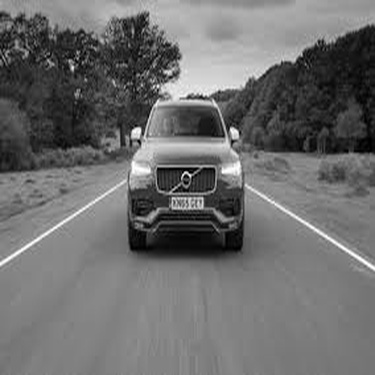car: (92, 86, 254, 261)
